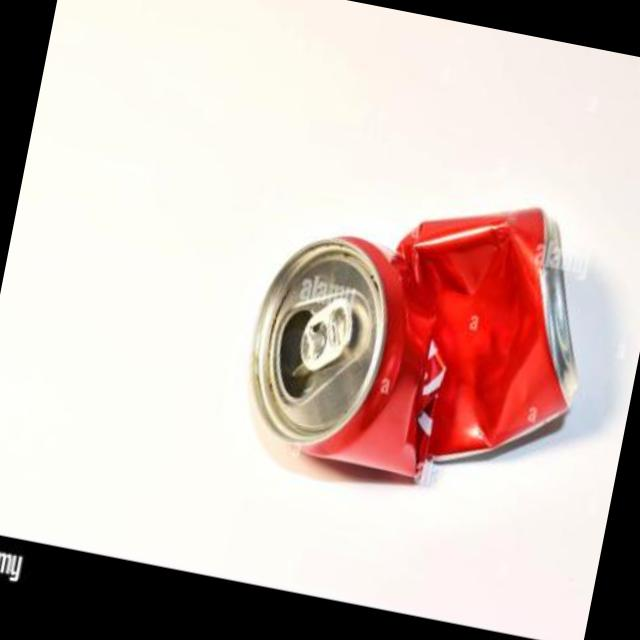metal: (250, 205, 574, 473)
